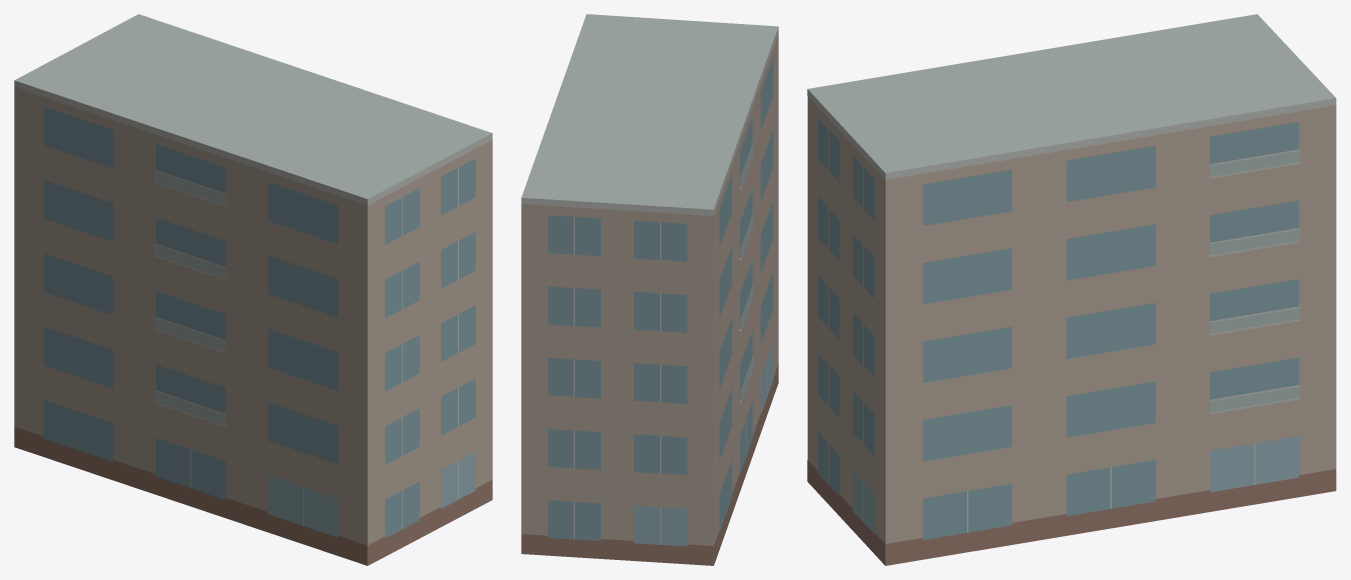
File: survey-upis-33037315.glb
3 renders of one model, left to right at view 1: azimuth 30°, elevation 25°; view 2: azimuth 150°, elevation 25°; view 3: azimuth 270°, elevation 25°, orthographic. The views are drawn at different scales.
Visible parts, largest first — view 1: survey-upis-33037315.tmp; view 2: survey-upis-33037315.tmp; view 3: survey-upis-33037315.tmp.
Boxes of the visible parts, x1,y1,x2,y2 form: survey-upis-33037315.tmp: (14,14,492,565); survey-upis-33037315.tmp: (521,14,778,565); survey-upis-33037315.tmp: (807,14,1336,565).
Bounding box in the file's own units: 12.05 × 13.85 × 16.92.
